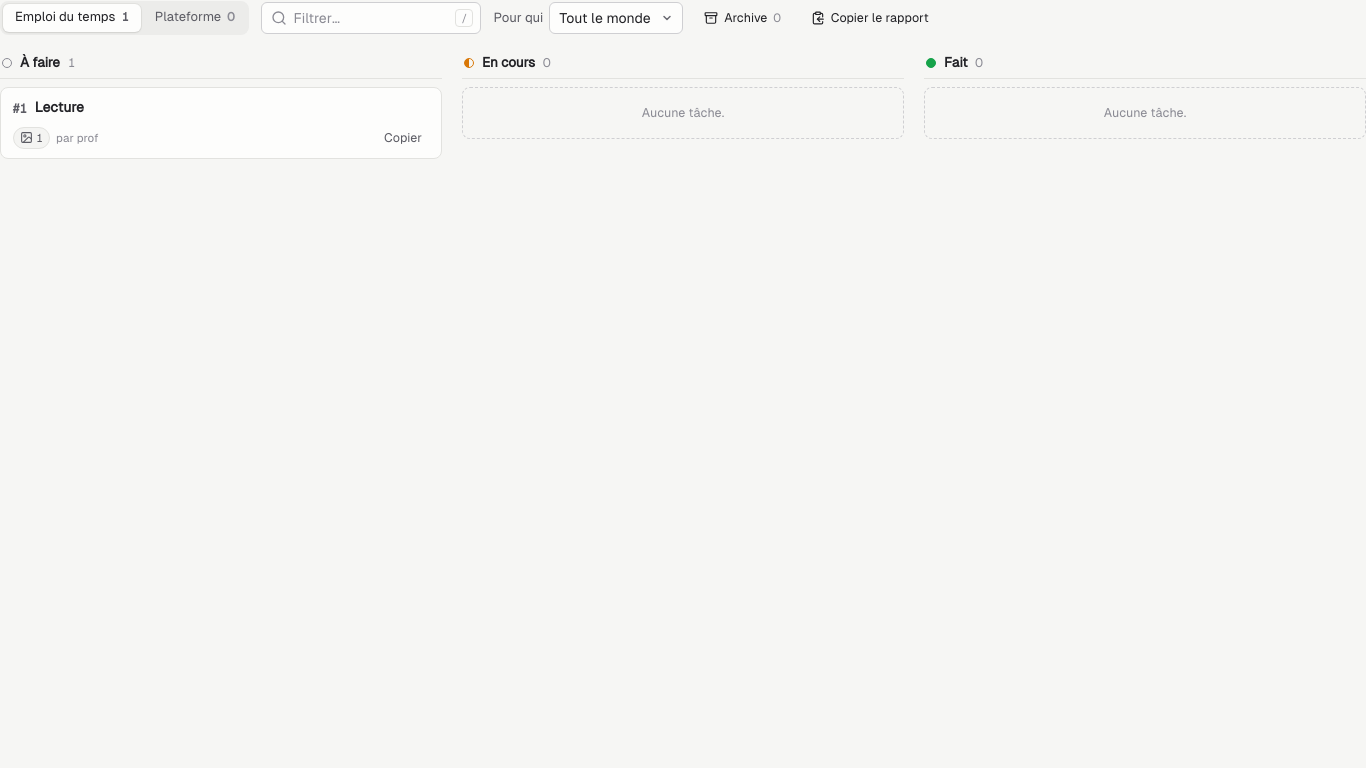
Test: KanbanView — images des tâches › lets a read-only account view images without any add or remove control
Check: the text "Lecture" is shown, box [35,99,84,115]
Click the button named "Voir l’image de « Lecture »" at (31, 138), box [13,127,50,149]
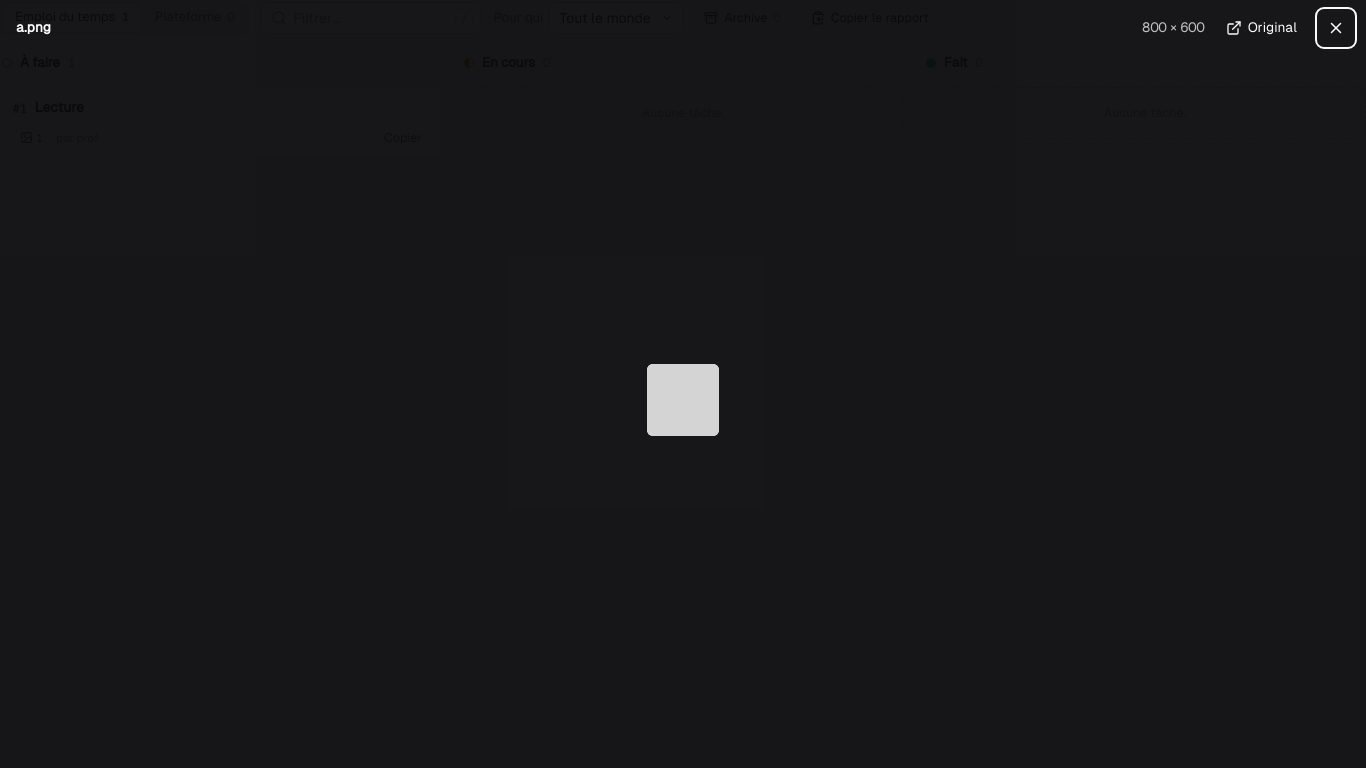
Check: the dialog named "Aperçu de « a.png »" is shown
